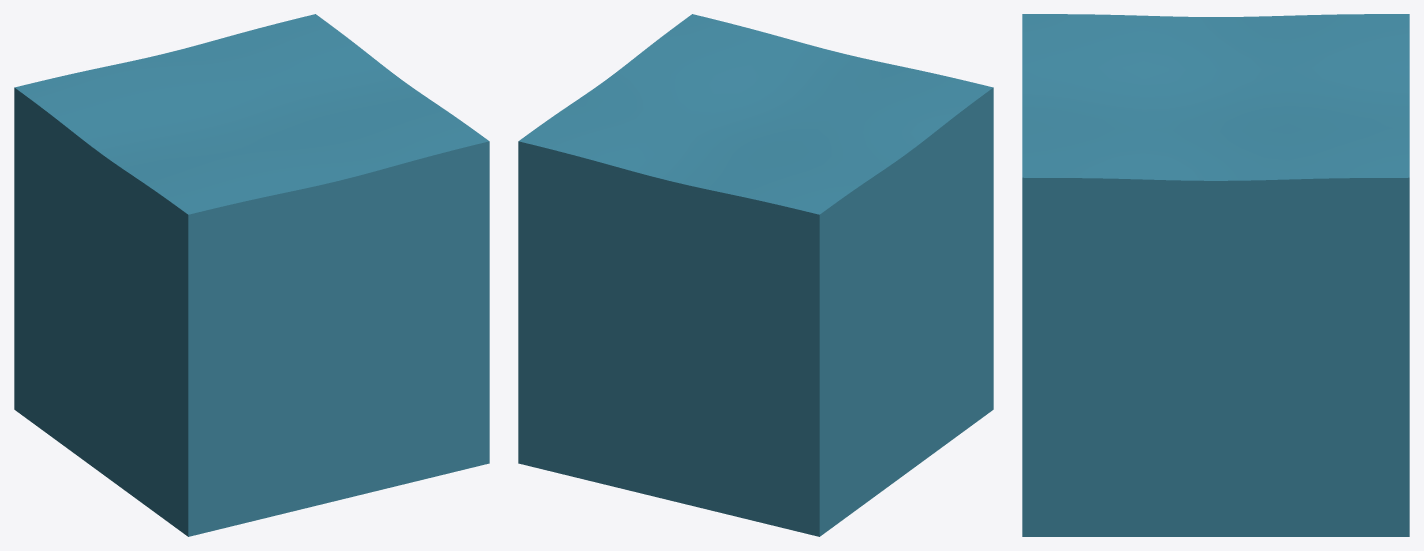
The model's file is slpool_wave30.glb.
3 renders of one model, left to right at view 1: azimuth 30°, elevation 25°; view 2: azimuth 150°, elevation 25°; view 3: azimuth 270°, elevation 25°, orthographic. The views are drawn at different scales.
Visible parts, largest first — view 1: poolWater; view 2: poolWater; view 3: poolWater.
Part boxes in pixels (x1=…): poolWater: x1=14, y1=14, x2=489, y2=536; poolWater: x1=518, y1=14, x2=993, y2=536; poolWater: x1=1022, y1=14, x2=1409, y2=536.
Bounding box in the file's own units: 2 × 2.04 × 2.
